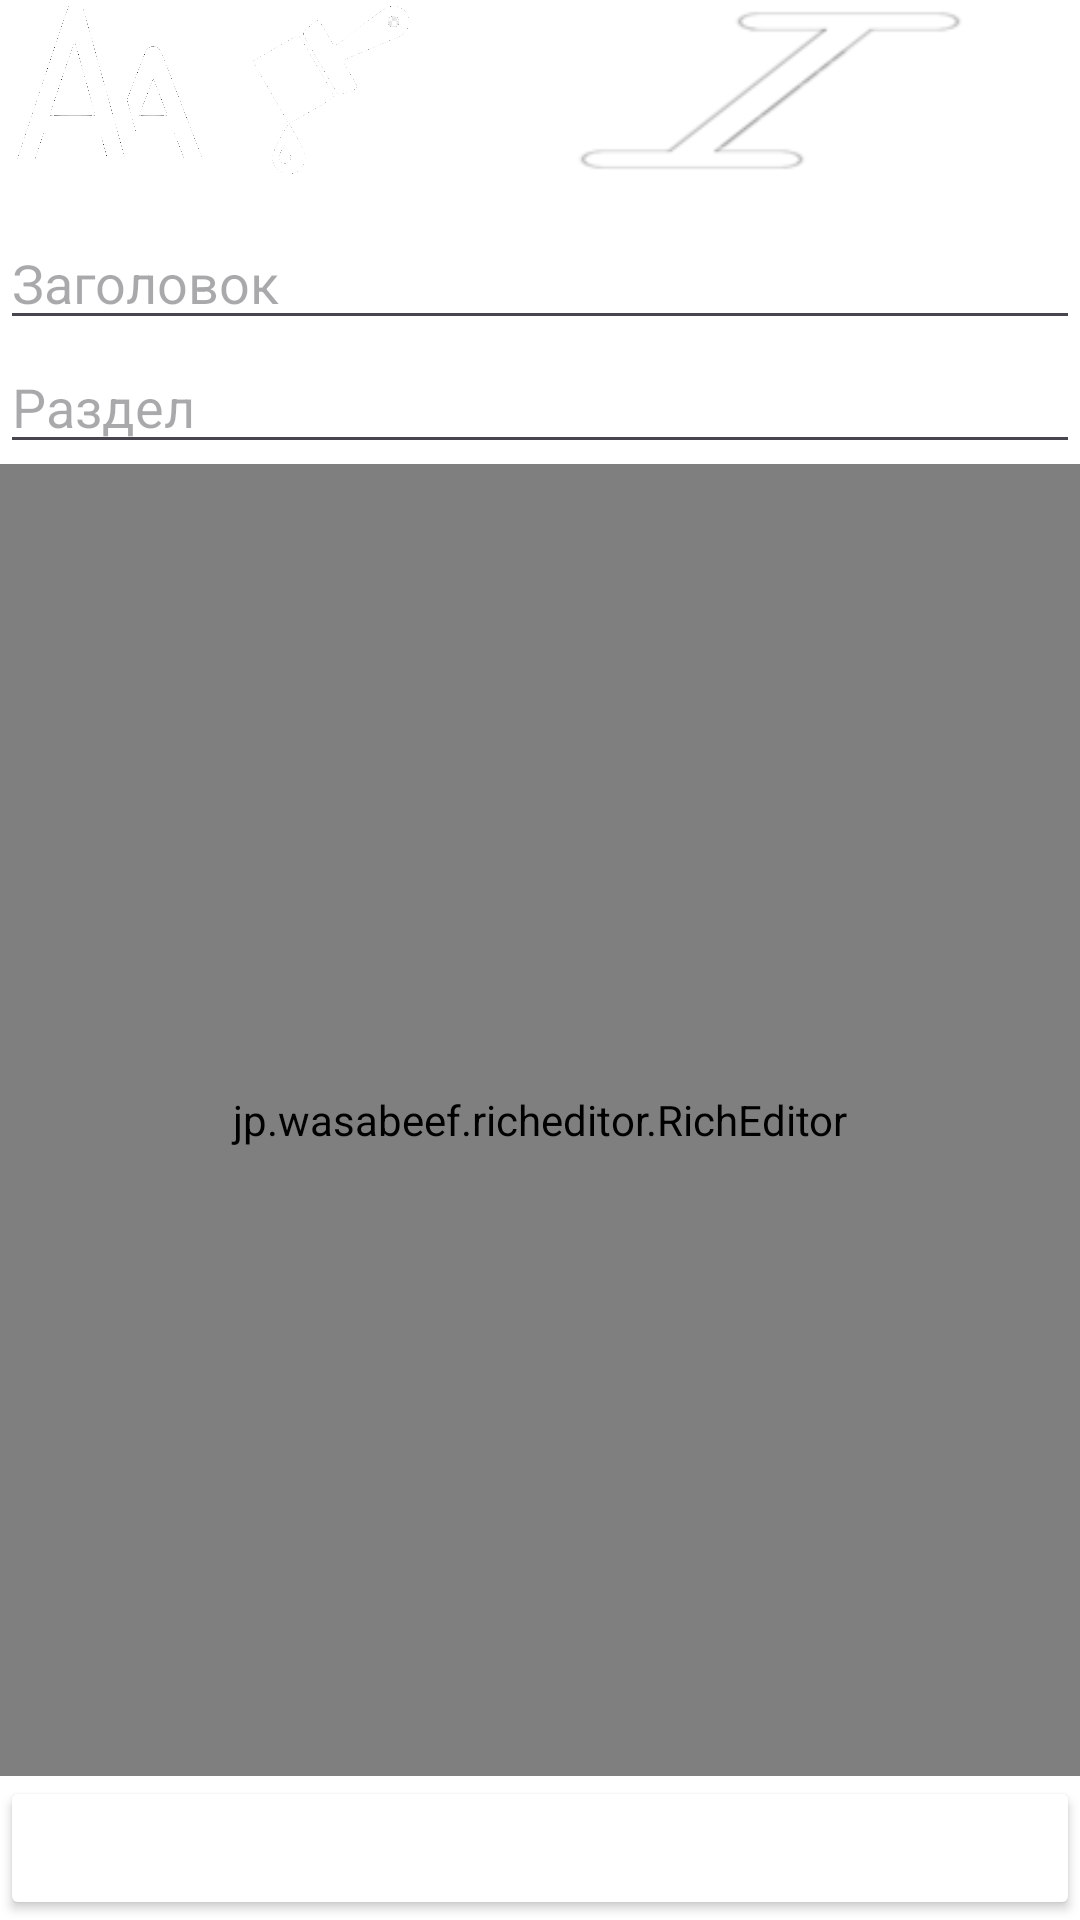

Screen size 1080*1920. Icon name, then its center in pixels as [x,y]:
fontsize: [109,82]
